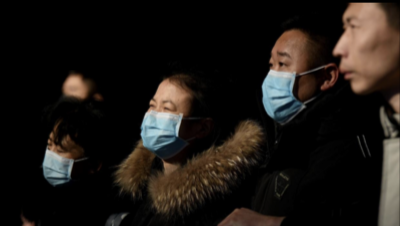with_mask: (260, 49, 320, 122), (139, 95, 187, 150), (42, 141, 79, 184)
without_mask: (331, 14, 393, 92)
